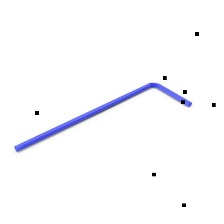drinking_straw: (5, 77, 197, 157)
